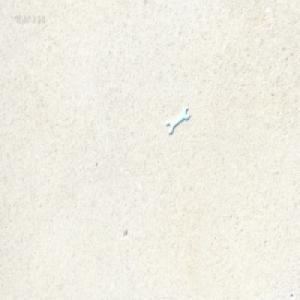Wrench: (166, 105, 188, 133)
